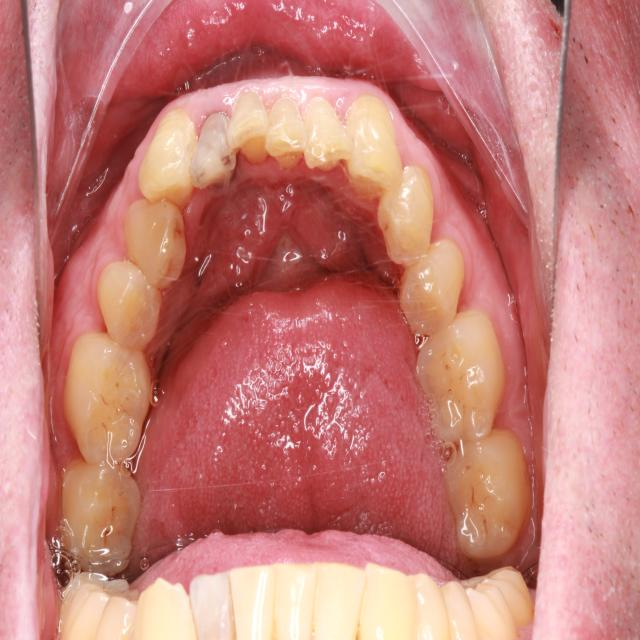tooth: (408, 293, 511, 454), (62, 332, 163, 481), (440, 418, 532, 567), (59, 449, 147, 581), (341, 87, 417, 220), (391, 227, 475, 341), (375, 154, 449, 281), (114, 190, 197, 291), (133, 104, 204, 219), (93, 253, 171, 356), (296, 83, 362, 194), (259, 77, 313, 181), (189, 111, 248, 195), (226, 82, 276, 179)
